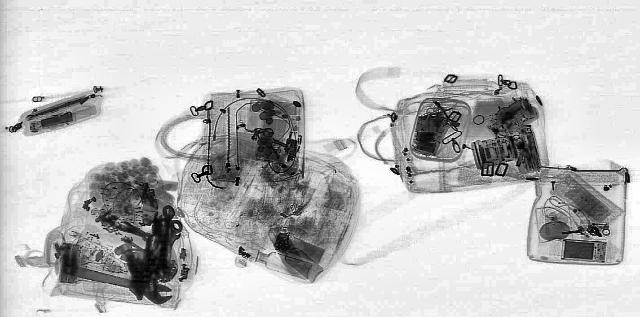Wrench: (49, 258, 184, 306)
